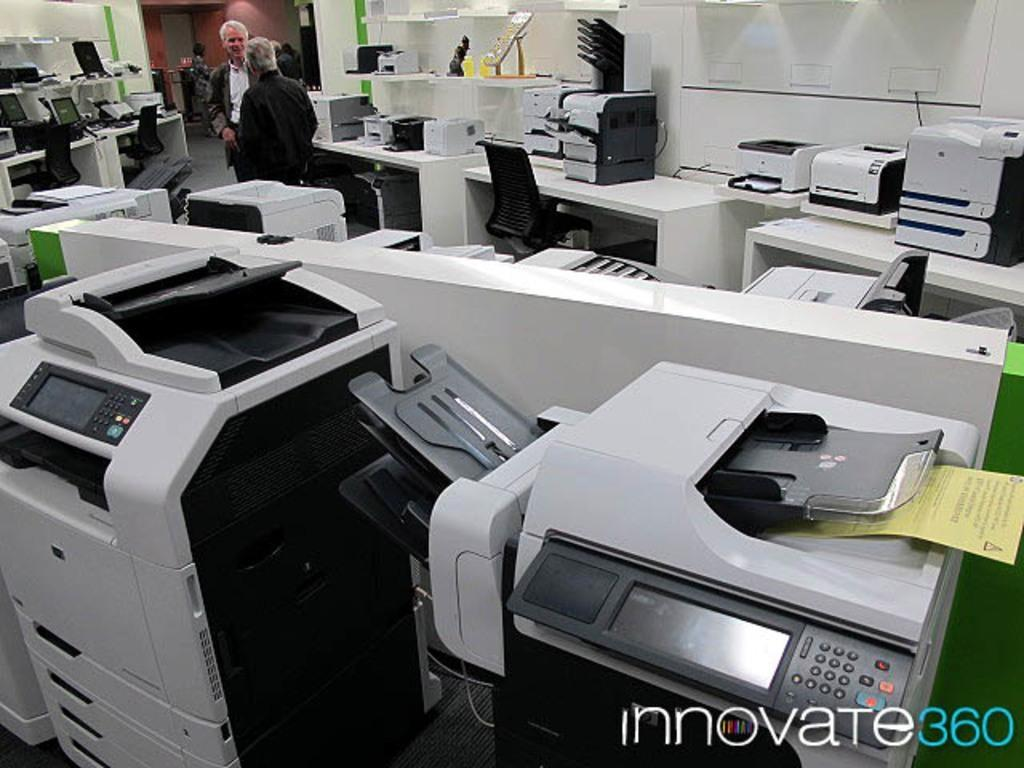Kursi: (473, 138, 593, 250)
Printer: (806, 142, 906, 214), (725, 139, 829, 194)
